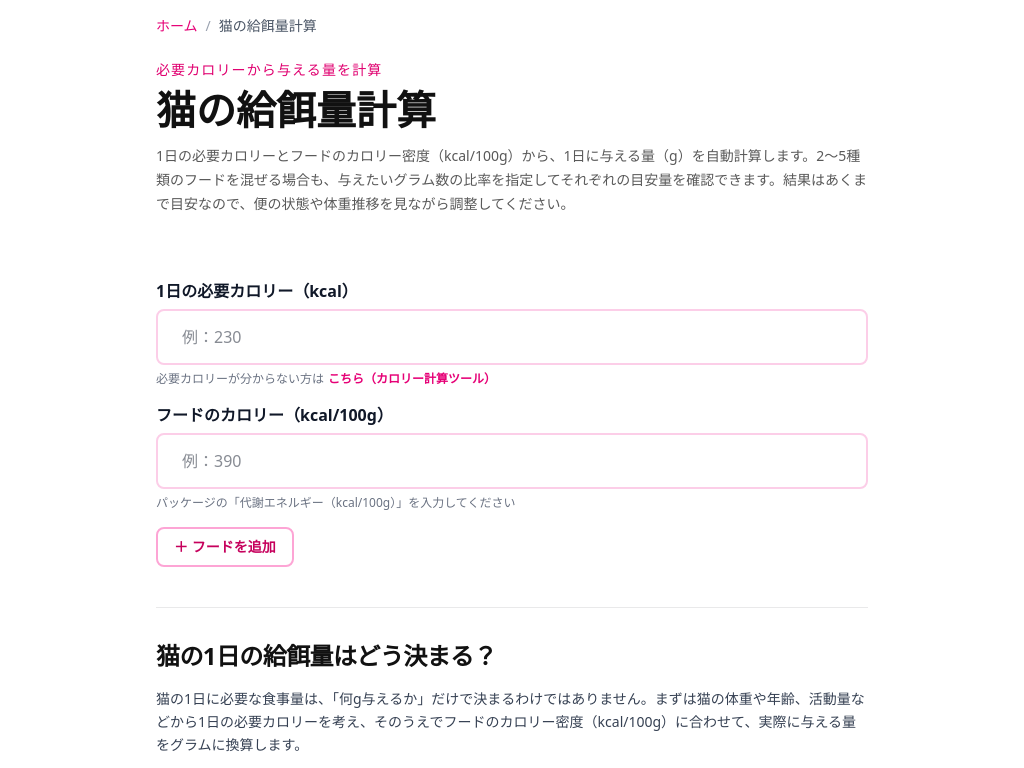
Test case: CatFeedingCalculator multi-food › 既存の単一計算結果を維持する
Step 1. Type "230" into the field labelled "1日の必要カロリー（kcal）" → point(512, 337), box [156,309,868,365]
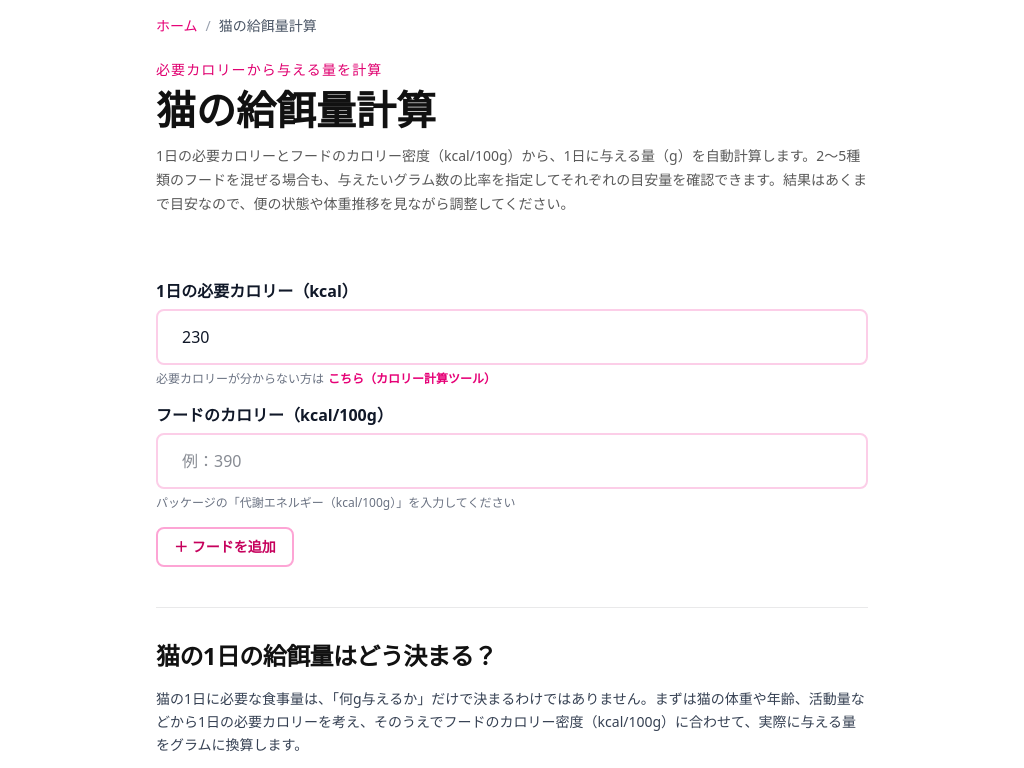
Step 2. Type "390" into the field labelled "フードのカロリー（kcal/100g）" → point(512, 461), box [156,433,868,489]
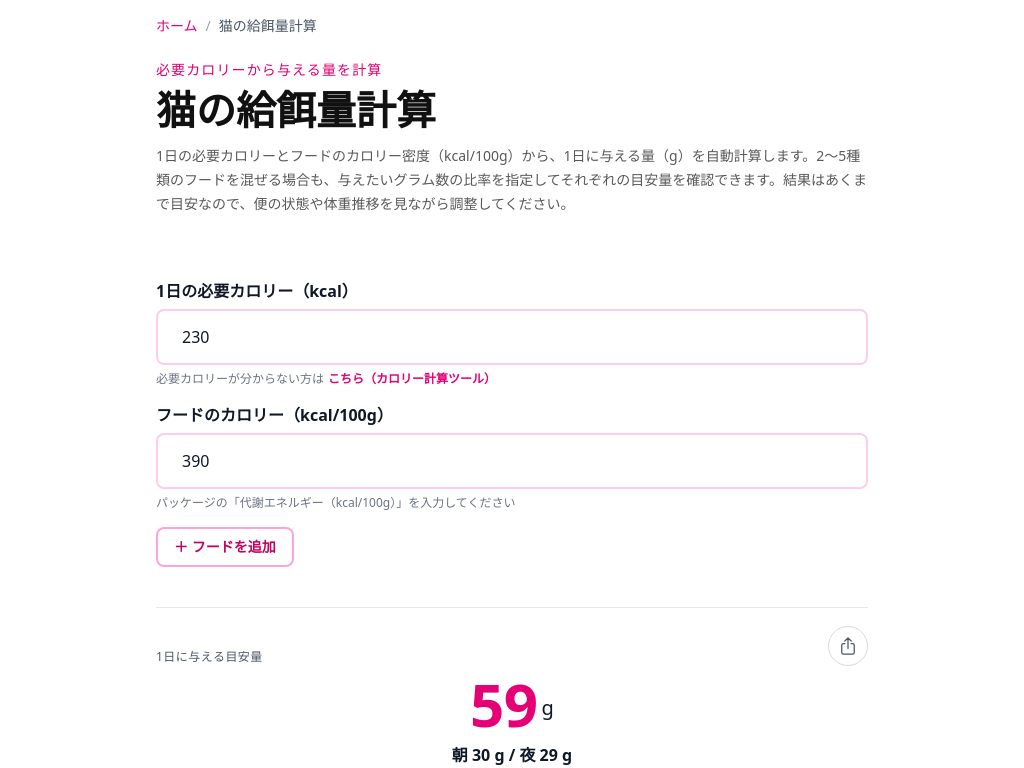
Check: the text "59" is shown, box [470,663,538,745]
Check: the text "朝 30 g / 夜 29 g" is shown, box [452,744,572,766]
